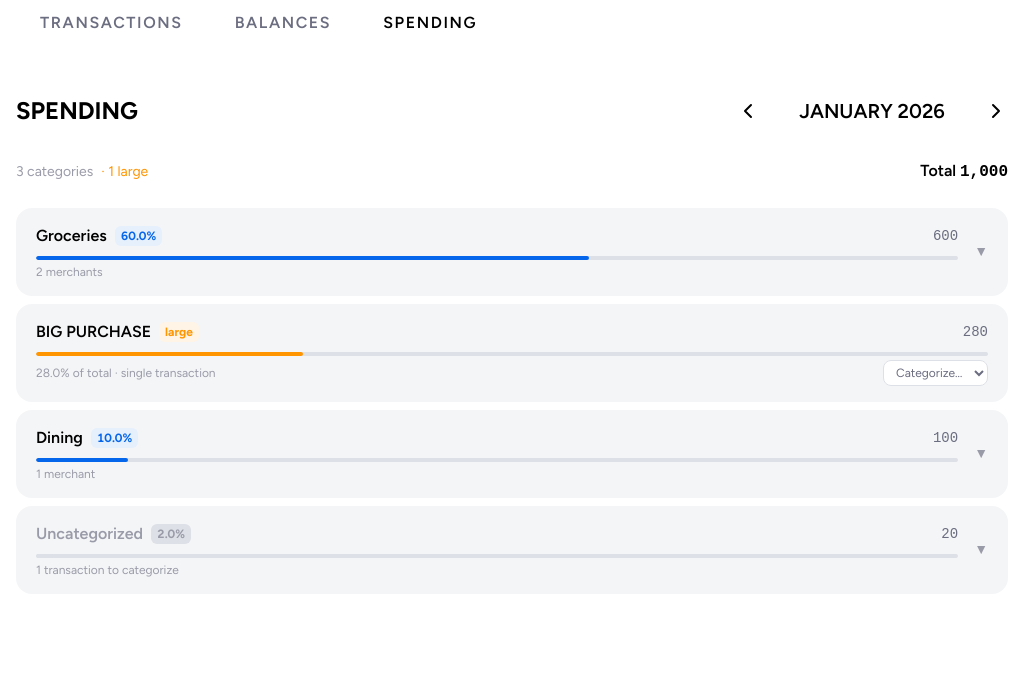
Test: Spending page › categorizes an uncategorized transaction and refreshes the breakdown
Click the button "Uncategorized" at (90, 534), box [16, 506, 1008, 594]
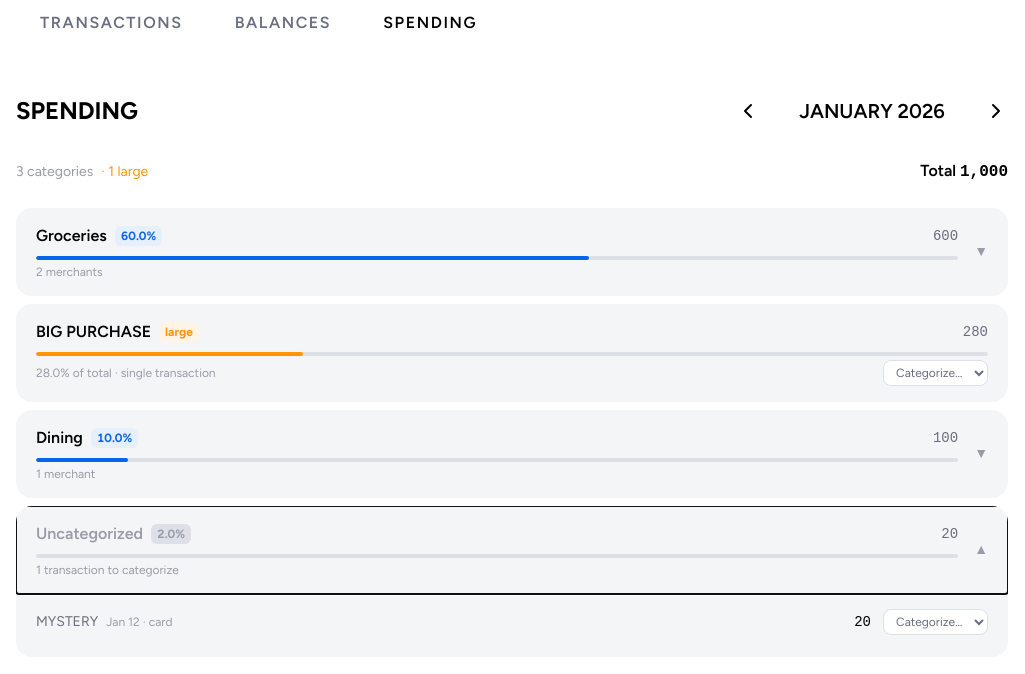
Result: the text "MYSTERY" shows "Jan 12 · card" at [28, 603, 996, 641]
Result: the dropdown in the row of "MYSTERY" is enabled
Select "Dining" in the dropdown in the row of "MYSTERY" at (936, 622), box [883, 609, 988, 635]
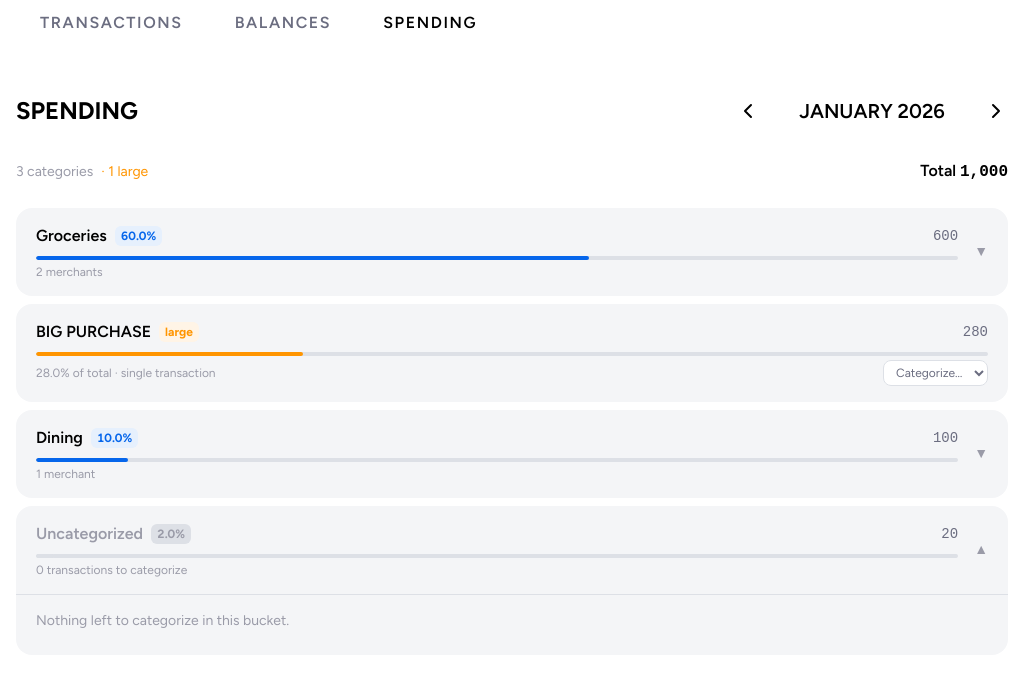
Result: the text "Nothing left to categorize in this bucket." is shown at [36, 612, 289, 629]
Result: the text "0 transactions to categorize" is shown at [36, 563, 187, 577]
